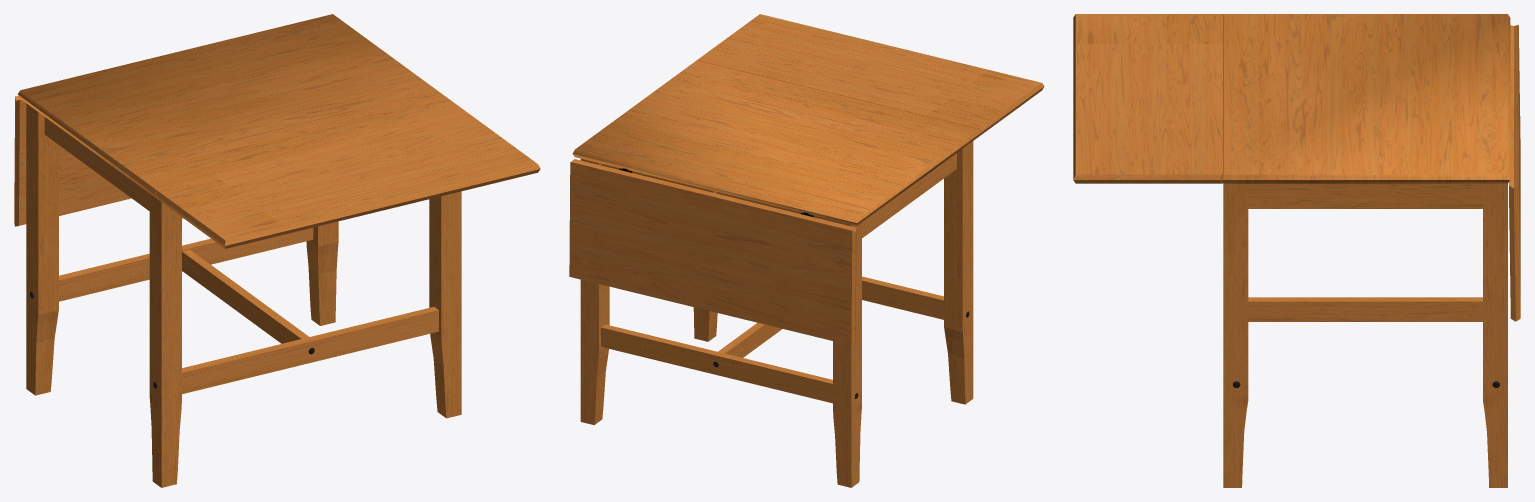
File: Table_3.fbx
3 views of the same model, side by side, from view 1: azimuth 30°, elevation 25°; view 2: azimuth 150°, elevation 25°; view 3: azimuth 270°, elevation 25° (orthographic). The views are drawn at different scales.
Visible parts, largest first — view 1: Table-top.003, Table-top.004, leg.007, leg.006, Cube.044, leg.004, Cube.043, Table-top.005, Cube.042, leg.005, Cube.047; view 2: Table-top.003, Table-top.005, Table-top.004, leg.007, Cube.043, leg.006, leg.005, Cube.044, Cube.047, Cube.042, leg.004, Cube.050; view 3: Table-top.003, Table-top.004, leg.004, leg.005, Cube.046, Cube.042, Table-top.005.
Boxes of the visible parts, left/top/right/bottom form: Table-top.003: left=18, top=14, right=467, bottom=197; Table-top.004: left=155, top=113, right=540, bottom=248; leg.007: left=149, top=194, right=181, bottom=487; leg.006: left=26, top=103, right=58, bottom=395; Cube.044: left=182, top=307, right=438, bottom=394; leg.004: left=429, top=191, right=461, bottom=418; Cube.043: left=59, top=227, right=313, bottom=301; Table-top.005: left=14, top=95, right=131, bottom=226; Cube.042: left=182, top=249, right=308, bottom=343; leg.005: left=306, top=221, right=338, bottom=325; Cube.047: left=44, top=117, right=149, bottom=210; Table-top.003: left=572, top=60, right=980, bottom=225; Table-top.005: left=569, top=159, right=856, bottom=346; Table-top.004: left=697, top=14, right=1044, bottom=136; leg.007: left=944, top=141, right=973, bottom=404; Cube.043: left=601, top=324, right=832, bottom=403; leg.006: left=833, top=220, right=861, bottom=487; leg.005: left=580, top=158, right=609, bottom=425; Cube.044: left=862, top=276, right=943, bottom=319; Cube.047: left=862, top=153, right=956, bottom=238; Cube.042: left=718, top=322, right=782, bottom=357; leg.004: left=693, top=307, right=717, bottom=341; Cube.050: left=601, top=163, right=832, bottom=221; Table-top.003: left=1221, top=14, right=1510, bottom=183; Table-top.004: left=1073, top=14, right=1222, bottom=183; leg.004: left=1223, top=183, right=1248, bottom=487; leg.005: left=1483, top=183, right=1507, bottom=487; Cube.046: left=1248, top=183, right=1482, bottom=208; Cube.042: left=1248, top=297, right=1482, bottom=321; Table-top.005: left=1509, top=24, right=1520, bottom=321.
Size of the model in its own units: 77 by 70 by 89.73.
